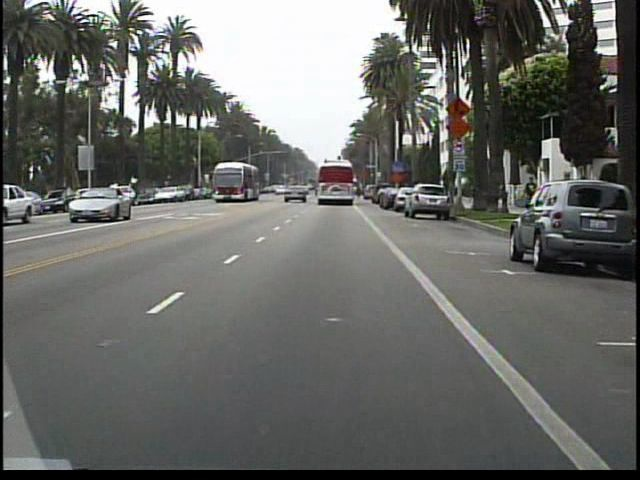person: (519, 172, 537, 196)
